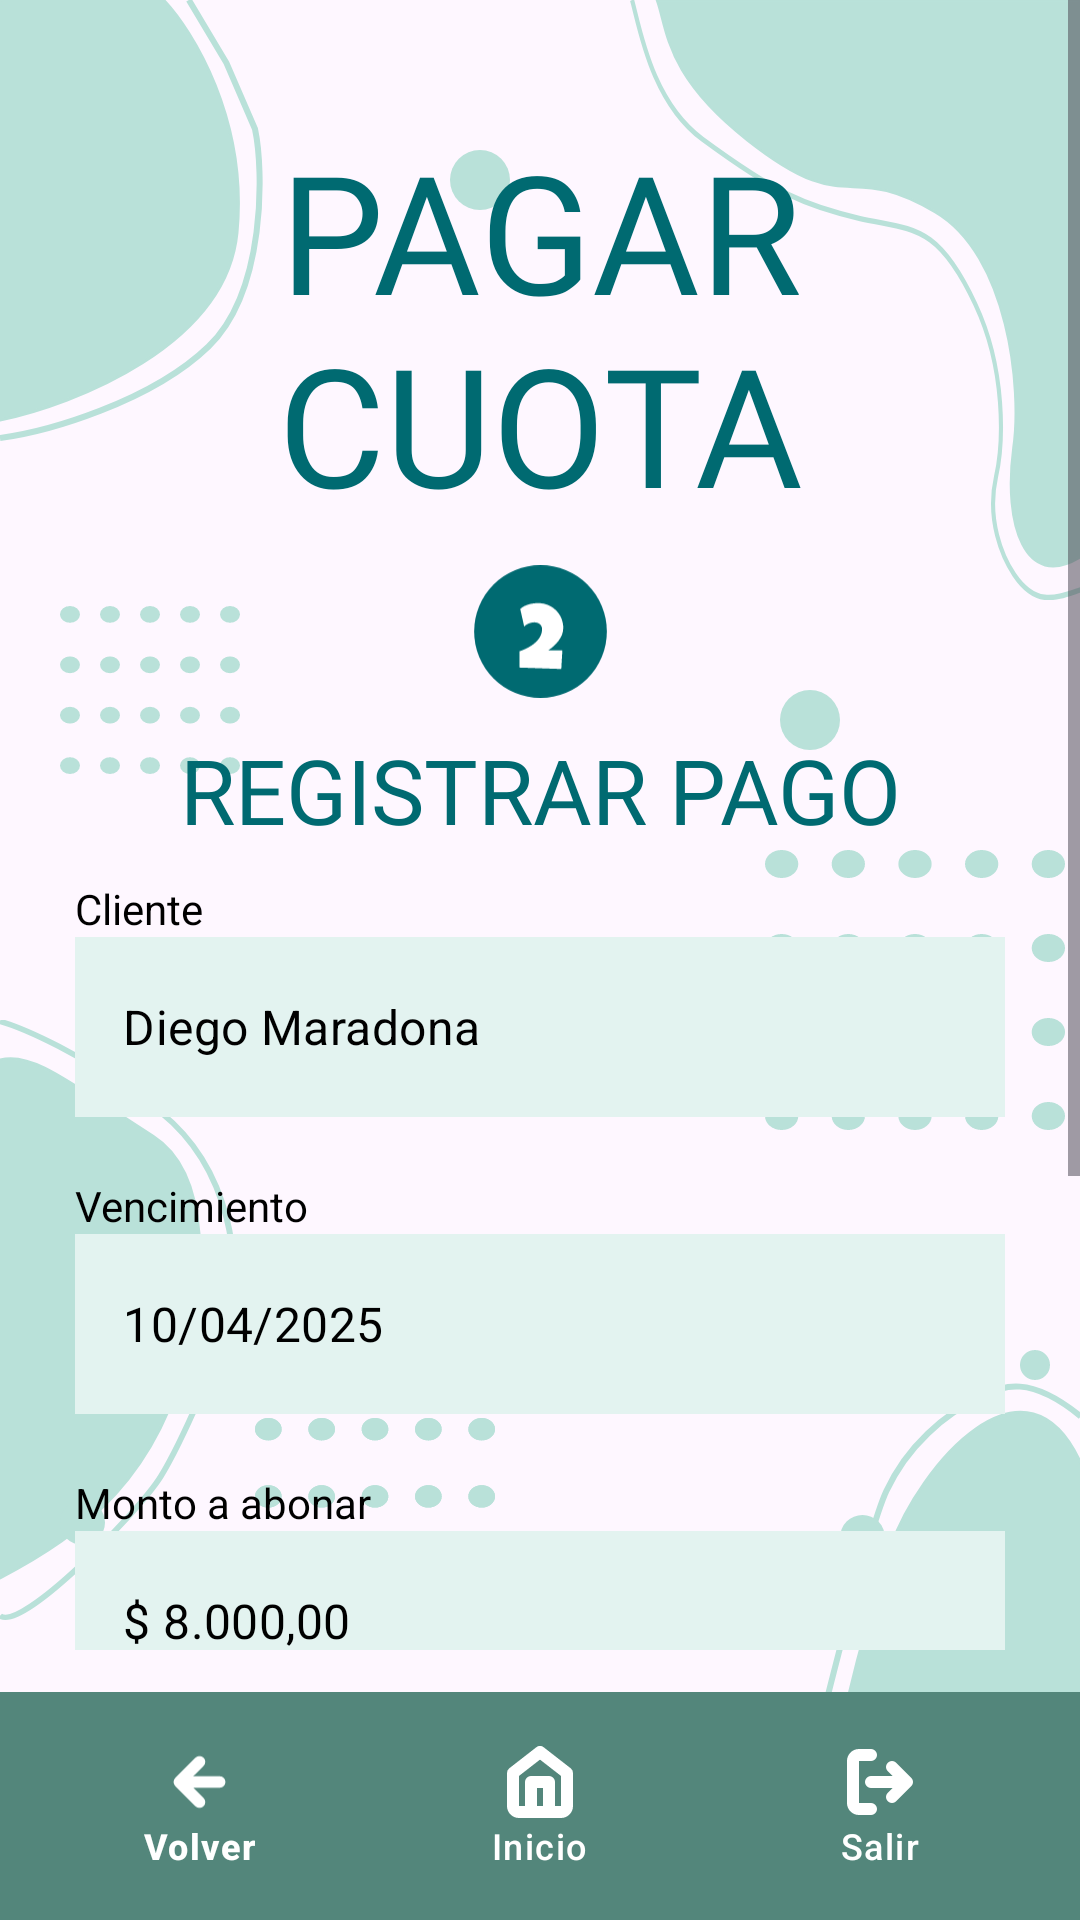

Point at icon controls on the screen. Image size 1080x1920, points as point (x, y).
step two: point (540, 631)
